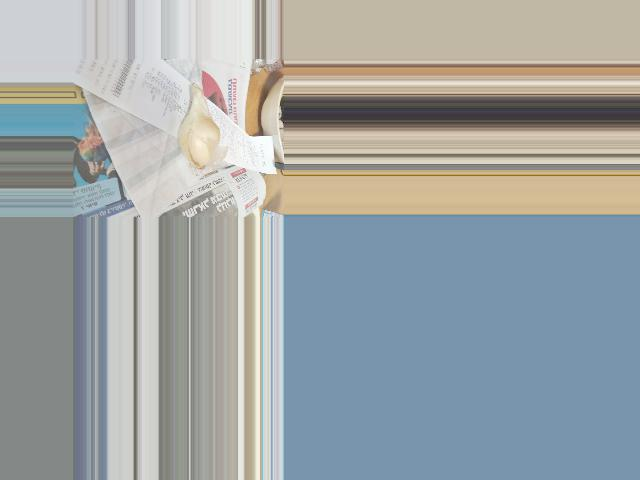onion: (178, 92, 220, 170)
